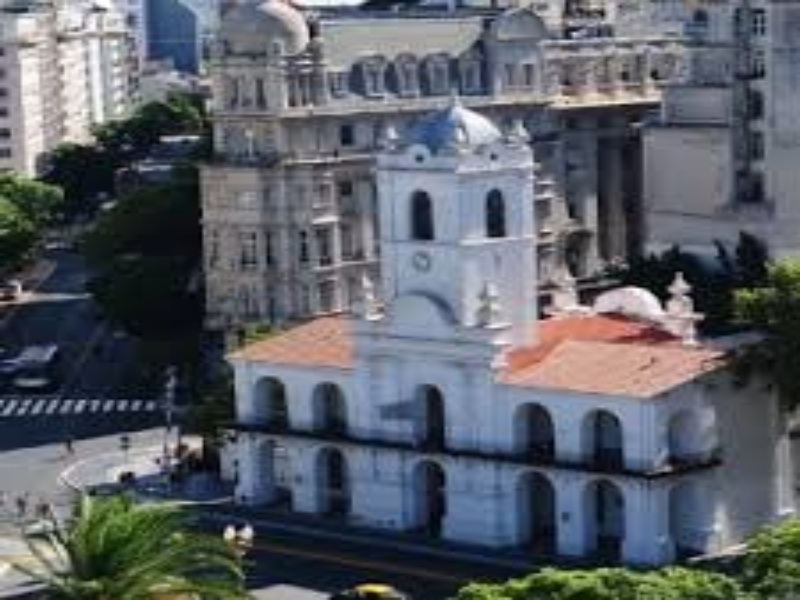cabildo: (218, 88, 730, 569)
